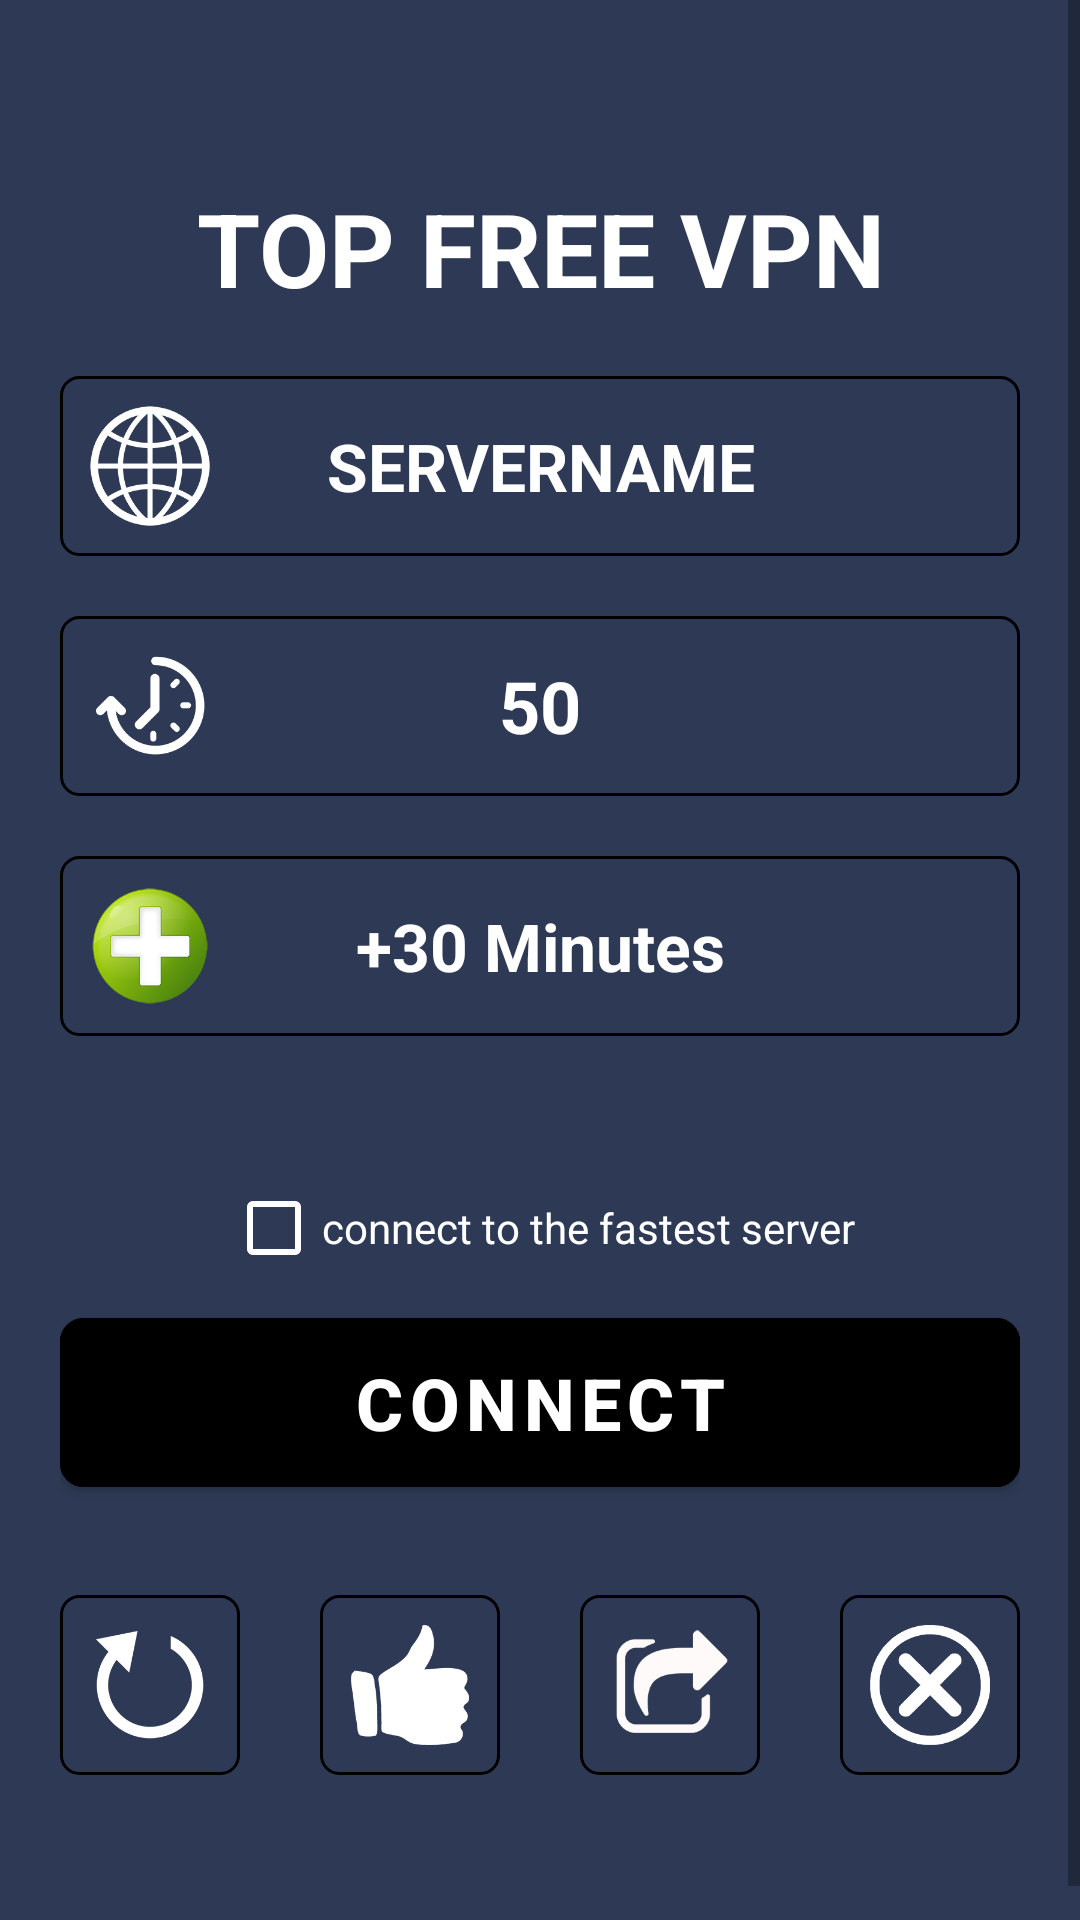

Screen size 1080px×1920px. Icon name, then its box in pixels as {"left": x1, "top": y1, "right": x2, "bottom": y2}:
exit: {"left": 840, "top": 1595, "right": 1020, "bottom": 1775}
plus: {"left": 92, "top": 888, "right": 208, "bottom": 1004}
rate: {"left": 320, "top": 1595, "right": 500, "bottom": 1775}
restart: {"left": 60, "top": 1595, "right": 240, "bottom": 1775}
share: {"left": 580, "top": 1595, "right": 760, "bottom": 1775}
time: {"left": 96, "top": 656, "right": 205, "bottom": 755}
